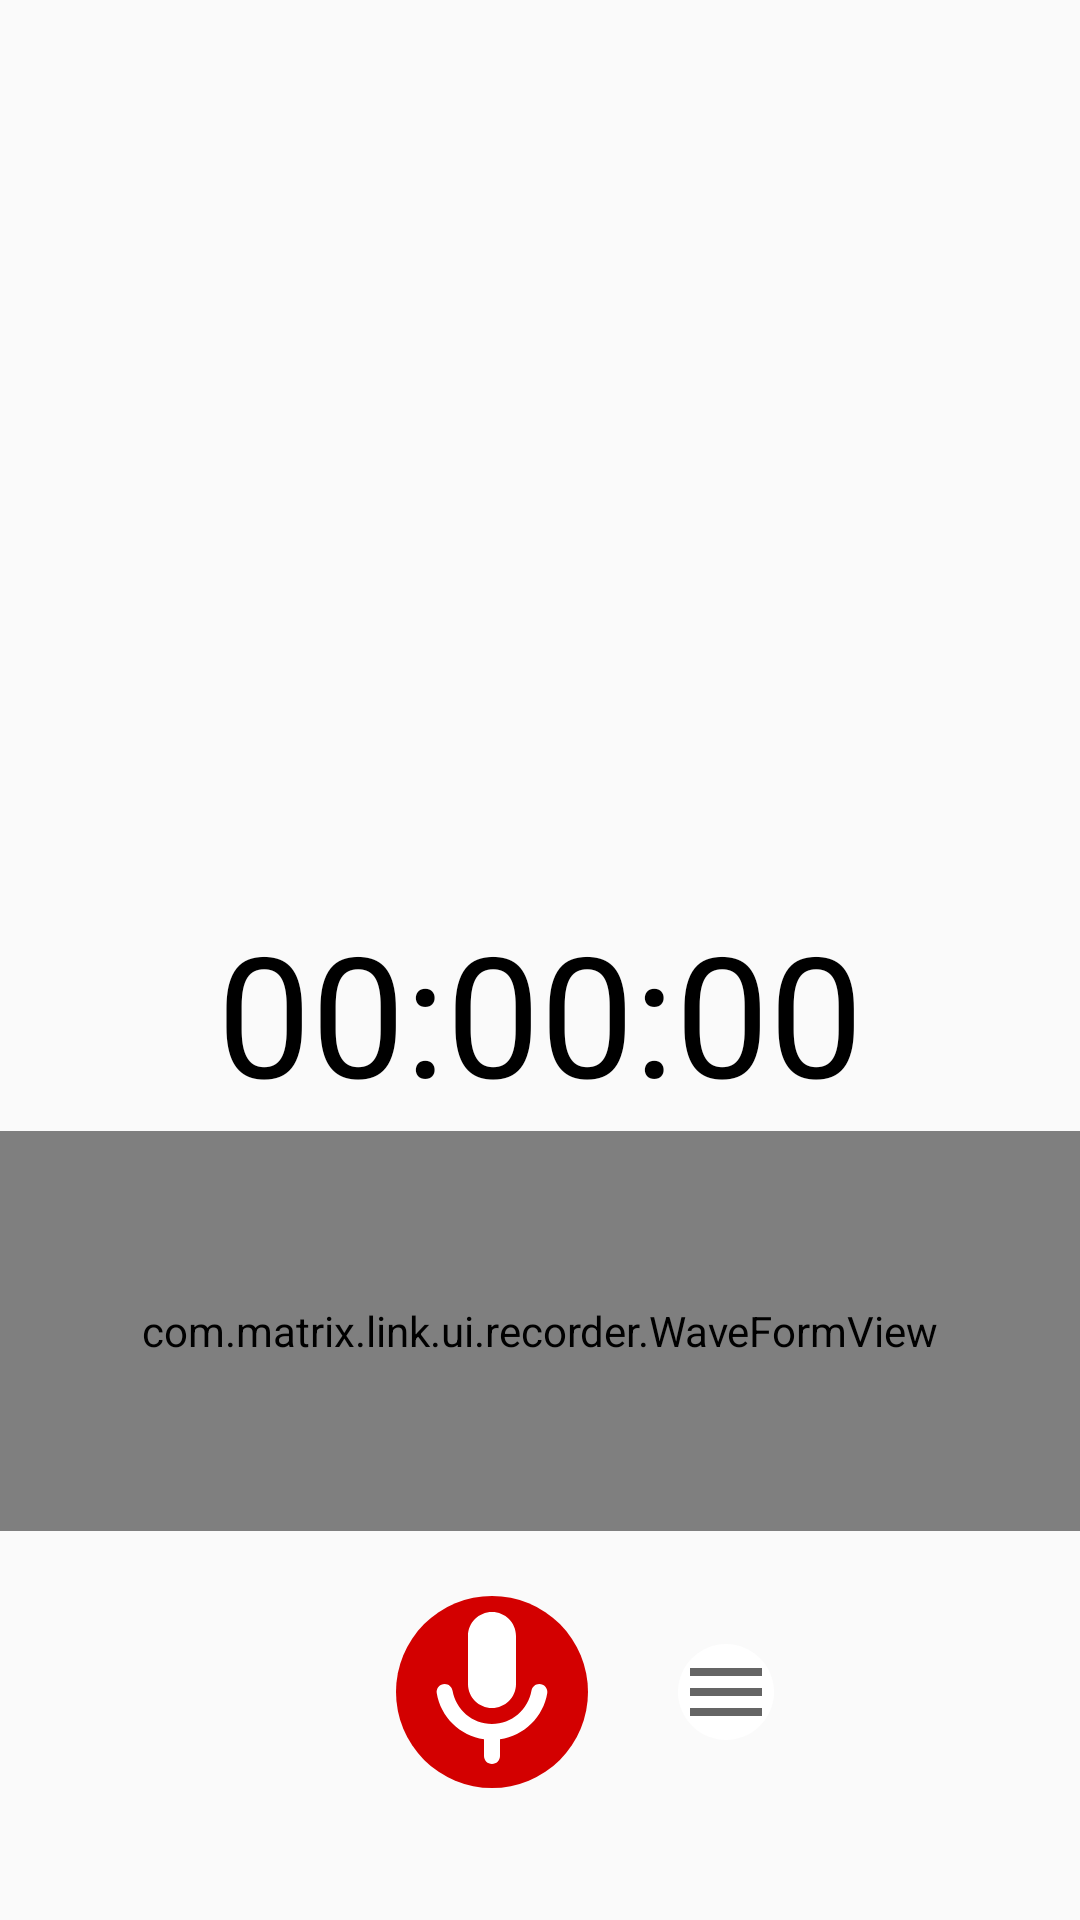

Screen size 1080px x 1920px. Icon name, then its center in pixels as (x,y):
recorder list: (726,1692)
recorder mic: (492,1692)
